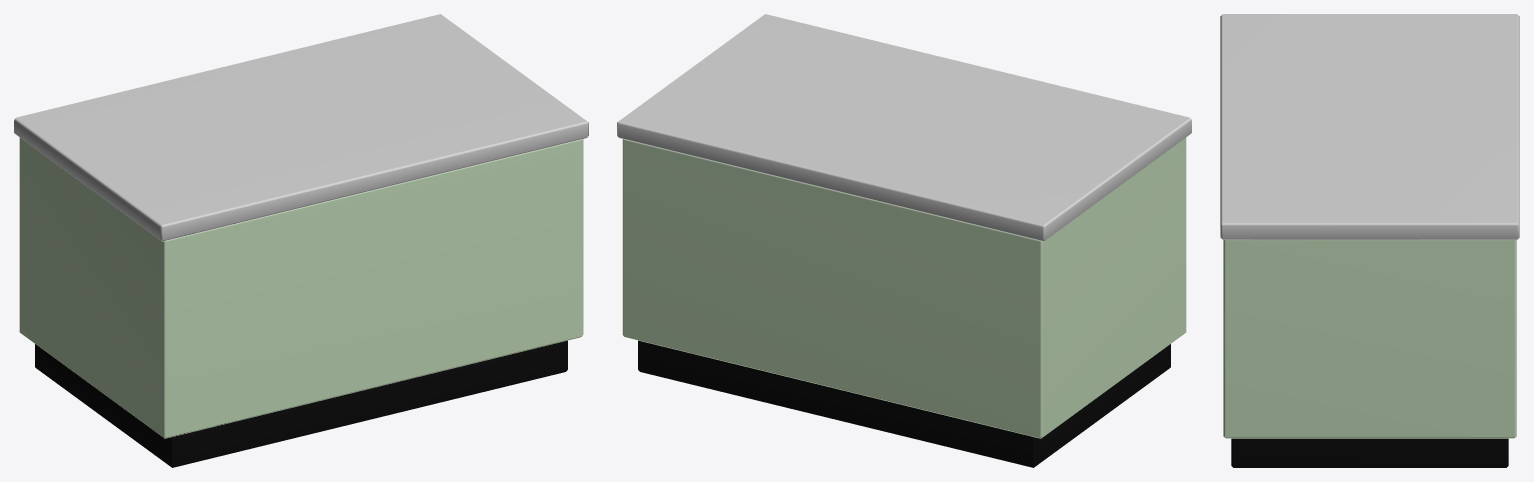
The model's file is SM_counter.fbx.
The picture shows the model from 3 angles, left to right: view 1: azimuth 30°, elevation 25°; view 2: azimuth 150°, elevation 25°; view 3: azimuth 270°, elevation 25°; orthographic projection.
Parts seen in each view (by area): view 1: Box250; view 2: Box250; view 3: Box250.
Boxes of the visible parts, x1,y1,x2,y2 form: Box250: [14, 14, 588, 467]; Box250: [617, 14, 1191, 467]; Box250: [1220, 14, 1519, 467].
Size of the model in its own units: 204 by 114 by 122.
